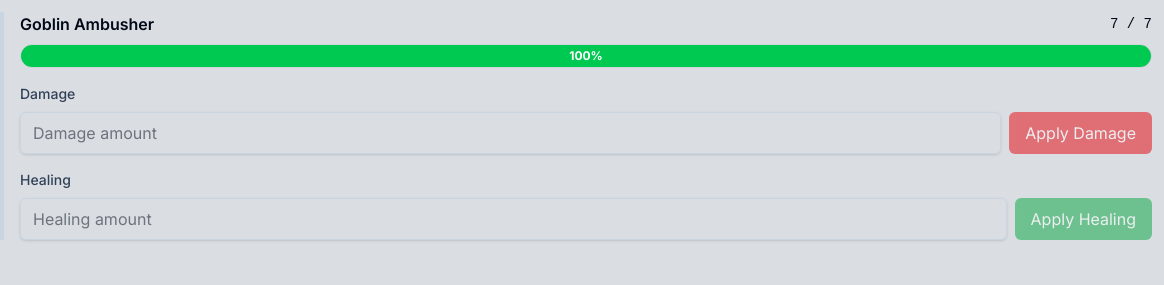
Test case: HPTracker Component › Healing Input Validation › should show error for negative healing
In the number field with placeholder "Healing amount": (513, 219) [20,198,1006,240], type "-5"
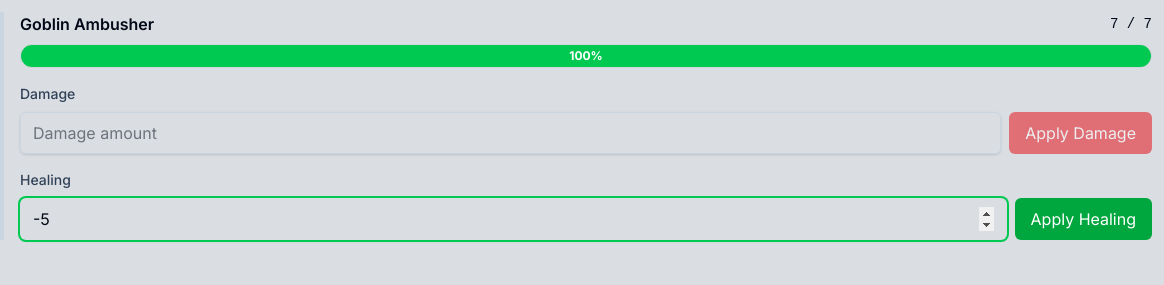
Click the button "Apply Healing": (1083, 219) [1014,198,1152,240]
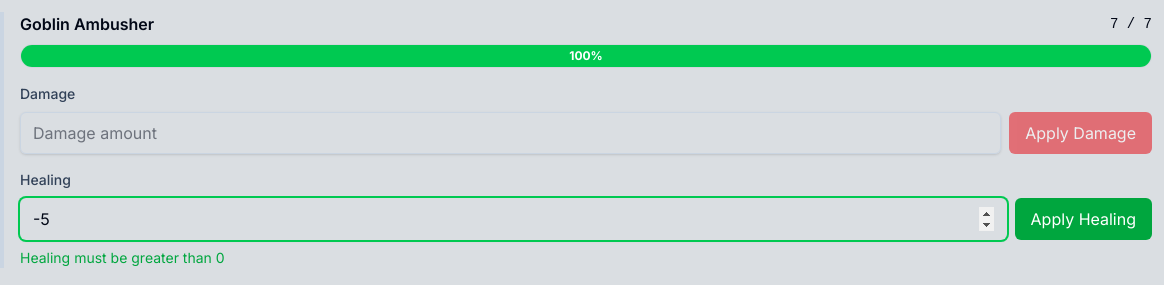
Expected: the text "Healing must be greater than 0" is shown, [20,249,225,266]
